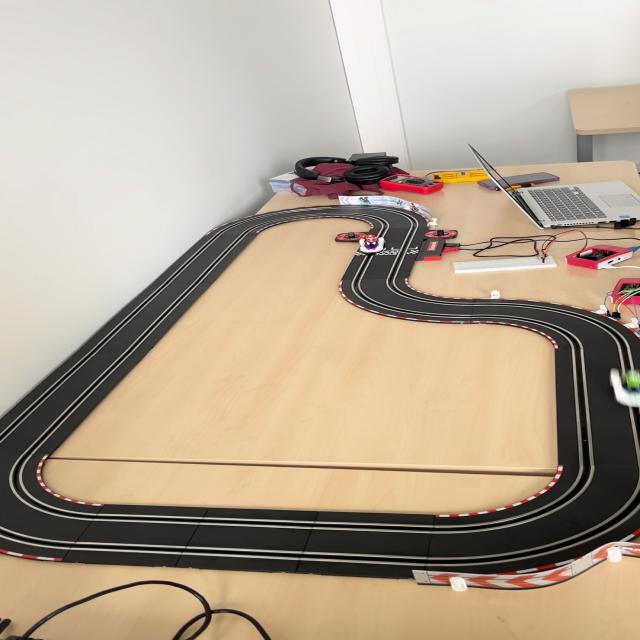mario: (355, 234, 389, 254)
yoshi: (604, 365, 640, 409)
